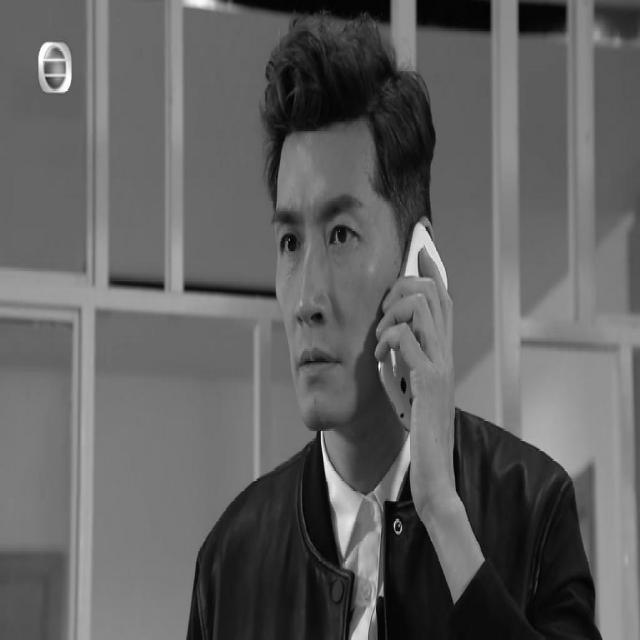phone: (325, 164, 462, 456)
